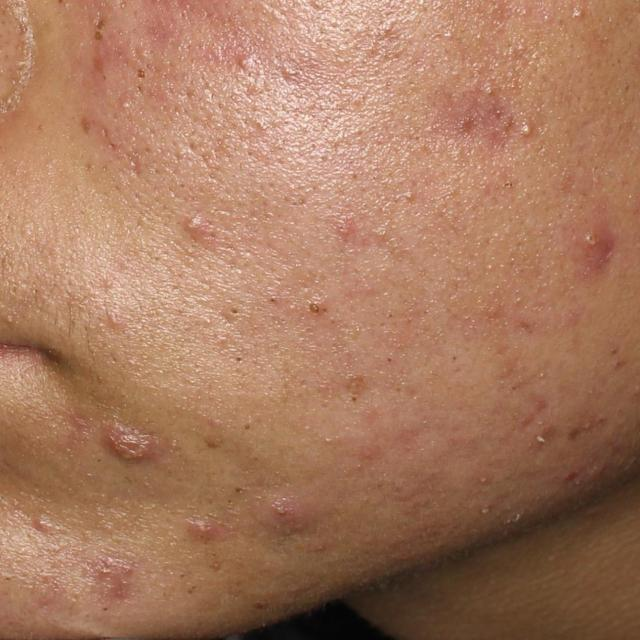blackhead: (502, 180, 514, 190), (96, 20, 105, 30), (137, 69, 145, 78), (310, 304, 318, 312), (94, 32, 102, 40), (388, 310, 394, 320), (230, 308, 237, 314), (338, 226, 344, 232), (120, 3, 126, 9), (299, 199, 304, 205), (610, 349, 615, 355), (218, 104, 224, 109), (146, 64, 151, 69), (249, 72, 254, 77), (210, 233, 215, 238), (235, 488, 241, 492), (203, 155, 209, 159), (424, 310, 430, 314), (522, 325, 528, 329), (198, 534, 204, 538), (236, 358, 241, 362), (102, 167, 106, 172), (300, 152, 304, 157), (210, 174, 215, 178), (155, 257, 159, 262), (352, 175, 357, 179), (127, 117, 132, 121), (352, 397, 356, 401), (245, 425, 249, 429), (180, 574, 184, 578), (188, 590, 192, 594), (387, 82, 391, 86), (252, 18, 256, 22), (192, 60, 196, 64), (594, 166, 598, 170), (330, 320, 334, 324), (212, 552, 216, 556), (181, 182, 184, 187), (103, 608, 107, 611), (192, 586, 196, 589), (452, 357, 456, 360), (508, 42, 511, 46), (560, 19, 563, 23), (248, 151, 252, 154), (529, 331, 533, 334), (231, 247, 234, 251), (6, 578, 10, 581), (388, 359, 391, 362), (228, 500, 231, 503), (119, 32, 122, 35), (394, 199, 397, 202), (293, 202, 296, 205), (271, 299, 274, 302), (416, 136, 418, 140), (254, 458, 258, 460), (321, 30, 324, 32), (98, 459, 100, 462), (324, 309, 326, 312), (600, 419, 603, 421), (340, 190, 342, 192), (180, 455, 182, 457)
nodule: (576, 214, 621, 280), (268, 496, 312, 528)
